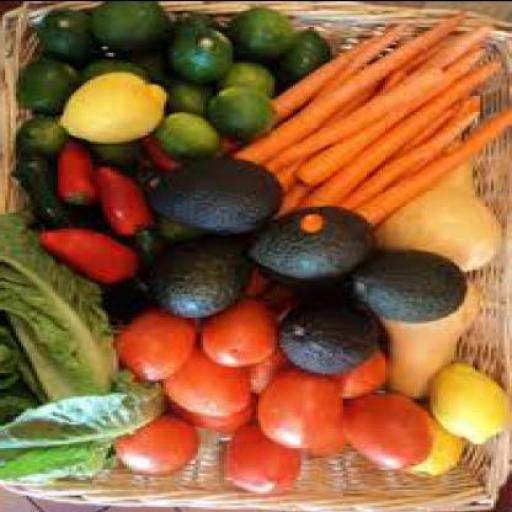biodegradable: (240, 12, 470, 160), (309, 58, 507, 205), (301, 48, 488, 180), (3, 207, 121, 403), (2, 368, 180, 484), (270, 63, 454, 168), (358, 103, 511, 224), (378, 142, 506, 267), (340, 109, 483, 207), (385, 275, 489, 393), (148, 156, 288, 232), (251, 204, 383, 281), (349, 245, 469, 320), (148, 231, 256, 314), (279, 35, 383, 119), (58, 67, 172, 141), (282, 296, 380, 370), (346, 389, 438, 466), (430, 357, 510, 444), (261, 364, 351, 441), (42, 222, 143, 283), (169, 342, 253, 414), (119, 306, 200, 380), (398, 90, 488, 154), (116, 408, 203, 472), (204, 295, 285, 361), (333, 22, 414, 86), (227, 424, 303, 492), (18, 154, 88, 224), (97, 162, 164, 233), (407, 21, 490, 77), (92, 1, 176, 54), (169, 385, 262, 430), (209, 83, 280, 139), (44, 4, 106, 64), (174, 20, 235, 78), (234, 3, 296, 59), (18, 58, 79, 114), (158, 109, 227, 154), (414, 414, 467, 472), (280, 22, 332, 79), (58, 136, 98, 200), (222, 56, 280, 98), (344, 348, 390, 395), (80, 52, 154, 81), (256, 276, 306, 318), (21, 113, 74, 150), (168, 75, 222, 111), (248, 352, 290, 394), (94, 140, 148, 172), (3, 383, 50, 418), (3, 324, 27, 386), (145, 131, 185, 168), (174, 8, 235, 30), (306, 435, 348, 461), (282, 180, 314, 212), (145, 47, 174, 77)
